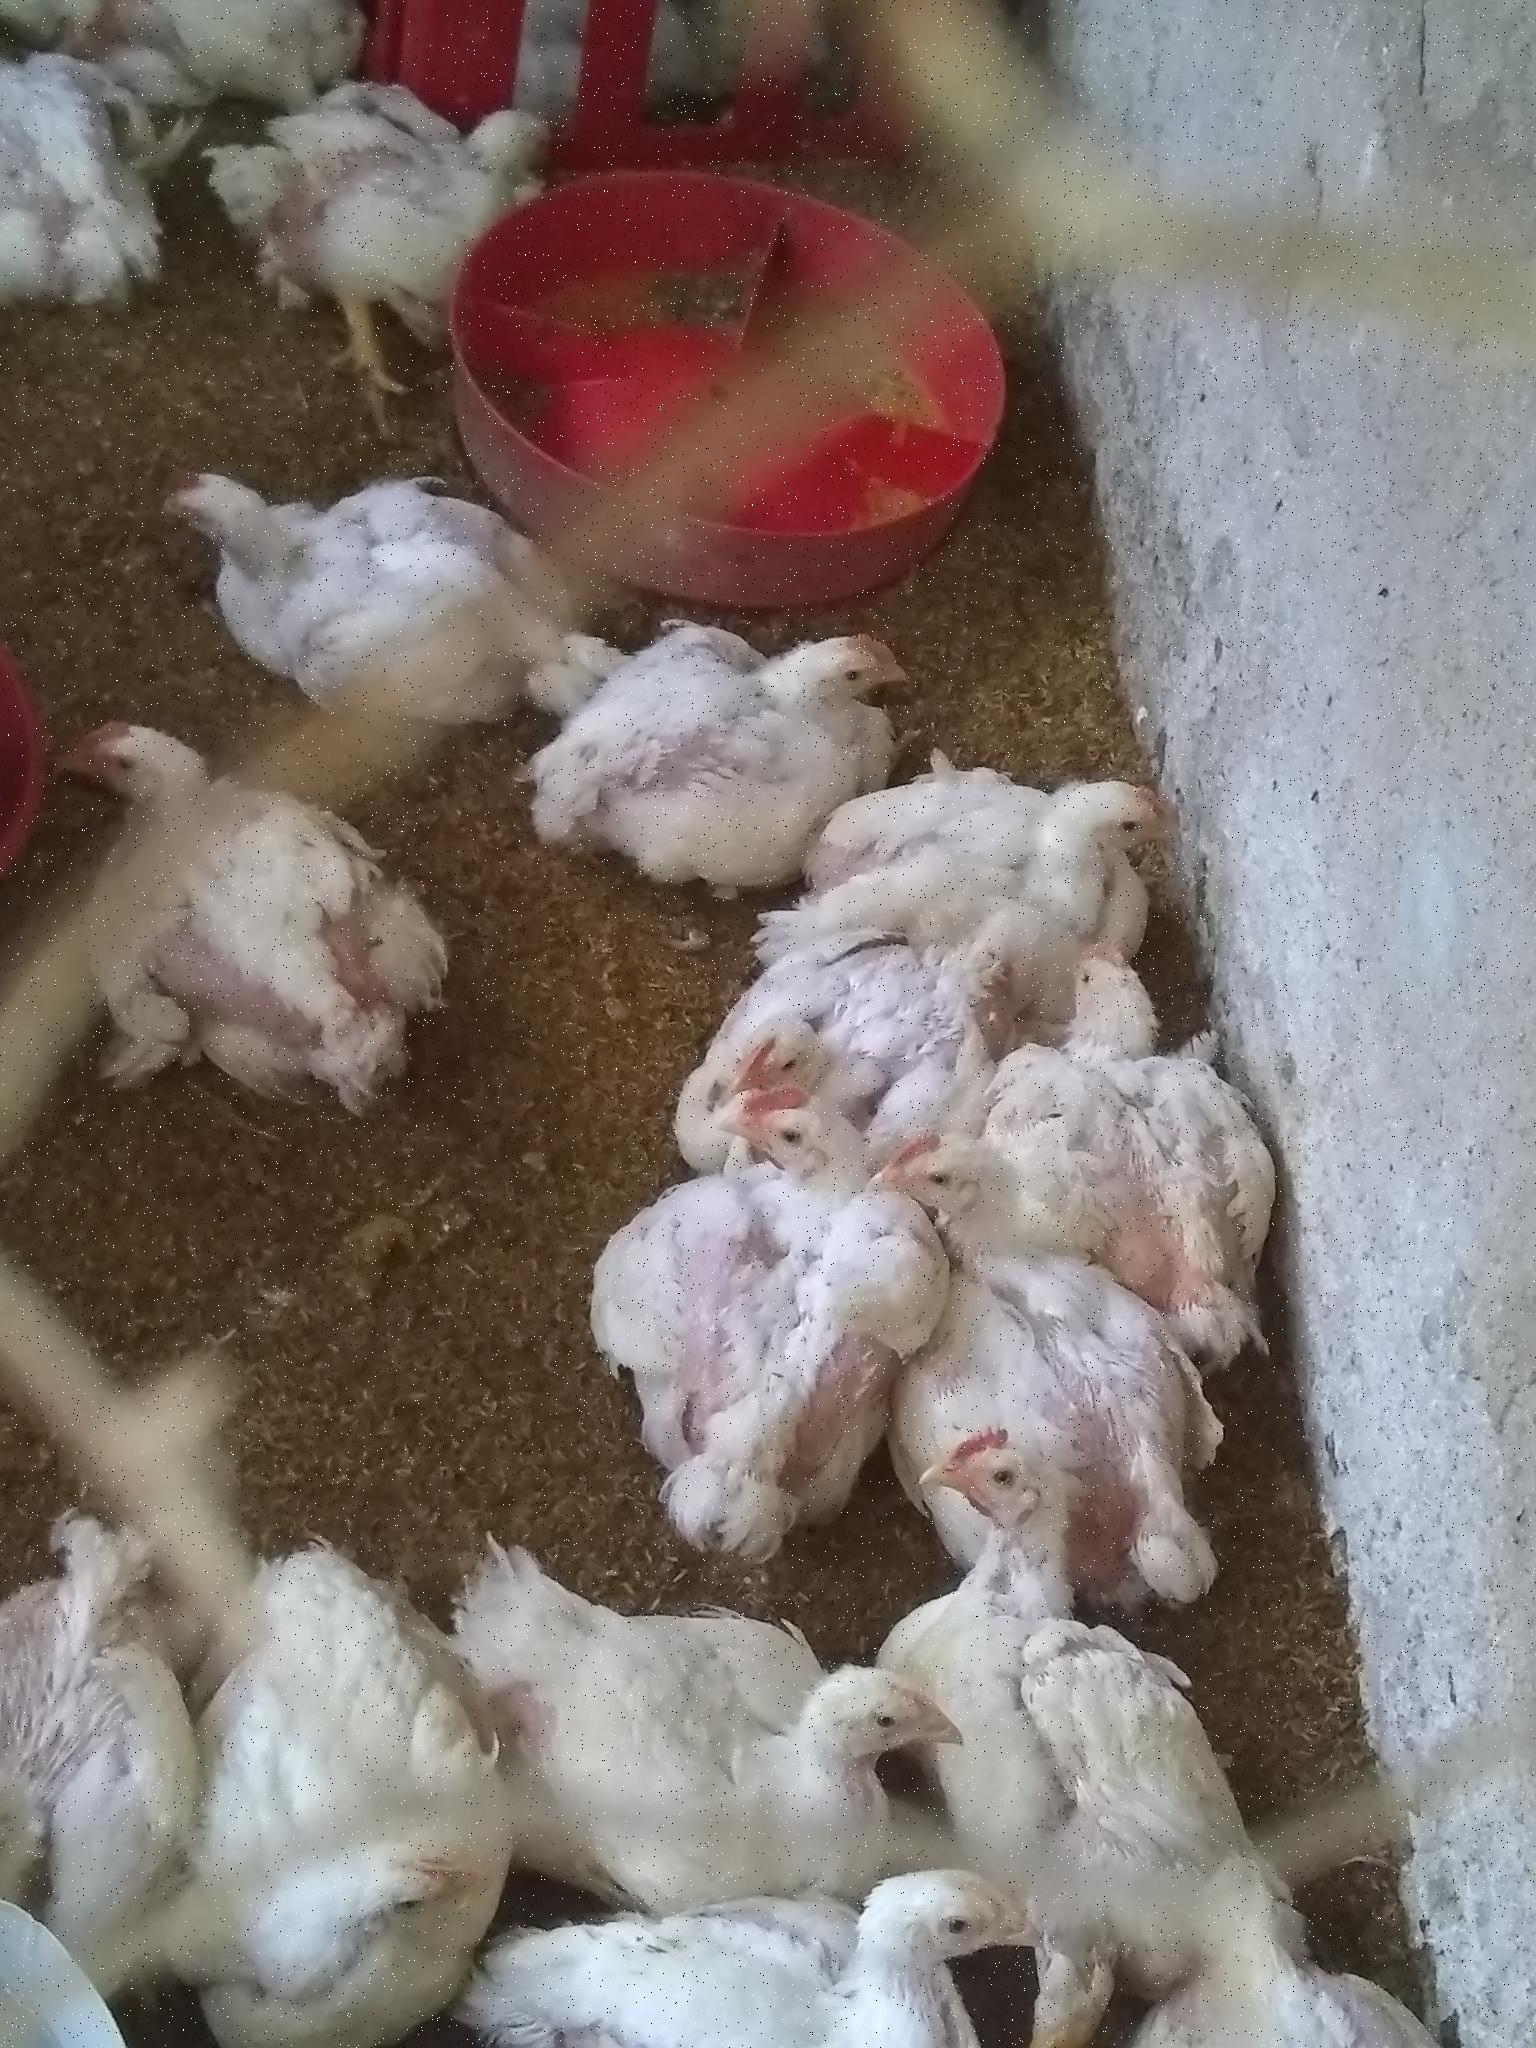Pollos: (850, 1408, 1312, 1967), (19, 701, 440, 1119), (171, 1534, 503, 2040), (186, 73, 629, 410), (611, 1106, 939, 1555), (490, 1609, 966, 1900), (984, 951, 1312, 1351), (495, 1838, 1033, 2048), (553, 603, 942, 890), (181, 440, 620, 677), (886, 734, 1254, 1006), (891, 1250, 1176, 1600), (2, 55, 229, 324), (720, 872, 878, 1150)
